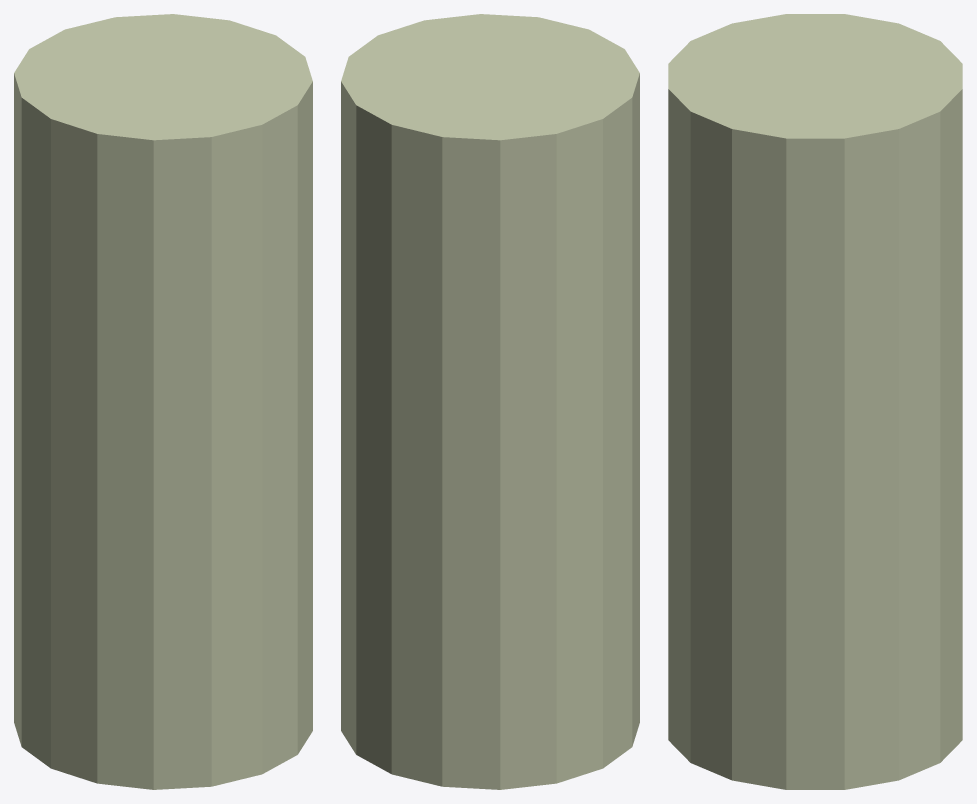
File: ALV_2_LFO_1_Collider.obj
3 renders of one model, left to right at view 1: azimuth 30°, elevation 25°; view 2: azimuth 150°, elevation 25°; view 3: azimuth 270°, elevation 25°, orthographic.
Visible parts, largest first — view 1: ALV_2_LFO_1_Collider; view 2: ALV_2_LFO_1_Collider; view 3: ALV_2_LFO_1_Collider.
Part boxes in pixels (x1=…): ALV_2_LFO_1_Collider: x1=14, y1=14, x2=312, y2=789; ALV_2_LFO_1_Collider: x1=341, y1=14, x2=639, y2=789; ALV_2_LFO_1_Collider: x1=668, y1=14, x2=962, y2=789.
Size of the model in its own units: 2.5 by 6.1 by 2.5.
